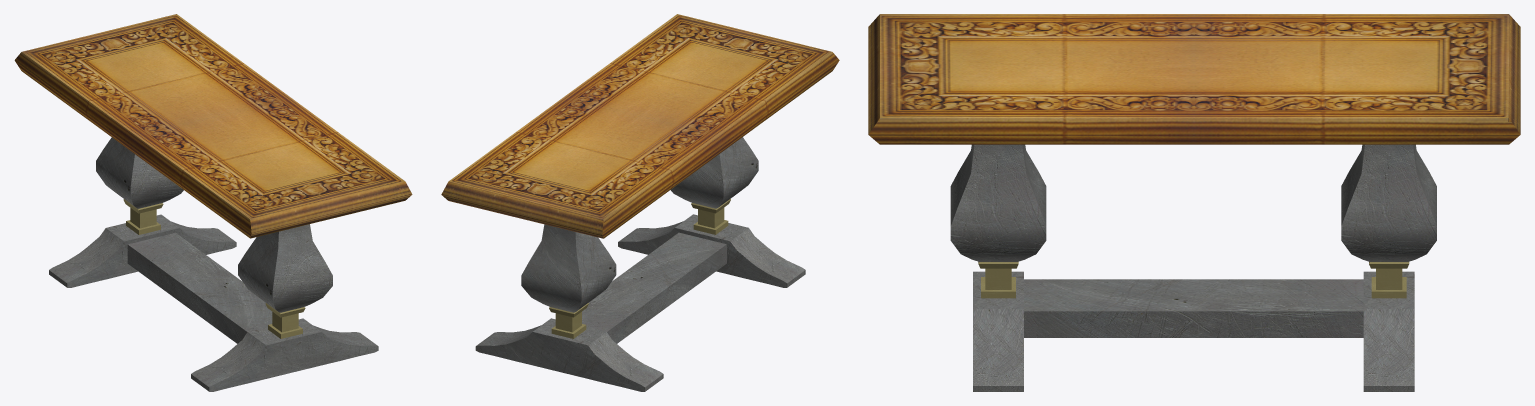
The model's file is SM_Table_Majestic.fbx.
The picture shows the model from 3 angles, left to right: view 1: azimuth 30°, elevation 25°; view 2: azimuth 150°, elevation 25°; view 3: azimuth 270°, elevation 25°; orthographic projection. The views are drawn at different scales.
Parts seen in each view (by area): view 1: polySurface12; view 2: polySurface12; view 3: polySurface12.
Part boxes in pixels (x1,y1,x2,y2): polySurface12: (14, 14, 412, 391); polySurface12: (441, 14, 839, 391); polySurface12: (868, 14, 1520, 391).
Bounding box in the file's own units: 12.1 × 13.44 × 29.37.
1 material, 1 textured.
